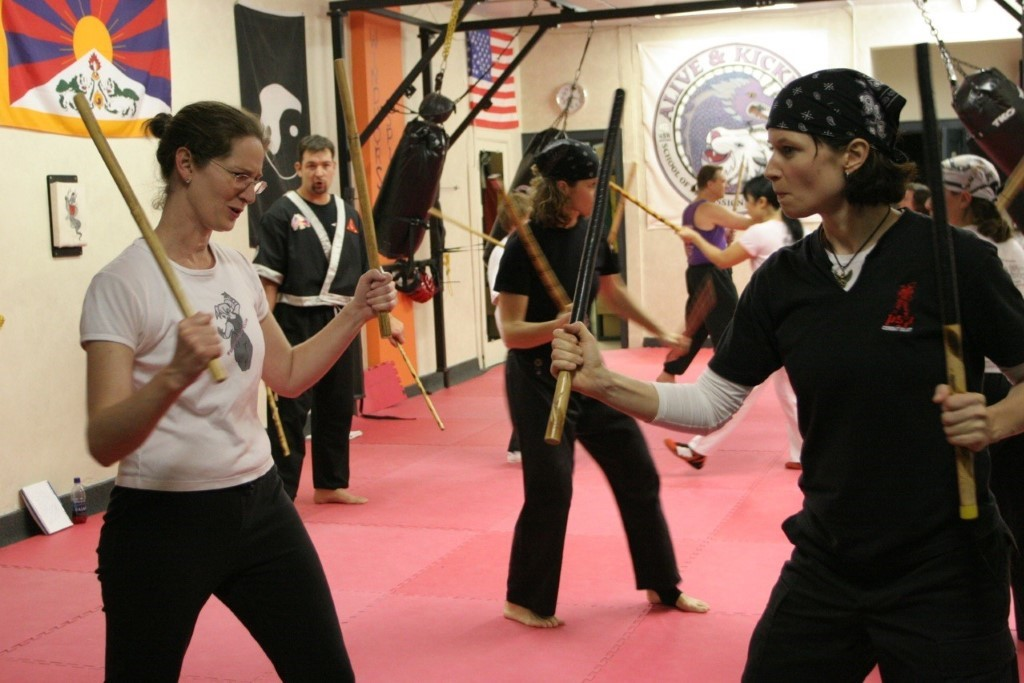baston_e: (72, 102, 220, 366), (908, 55, 976, 516), (547, 100, 623, 429), (327, 68, 390, 333), (497, 181, 567, 312), (394, 342, 441, 425), (608, 182, 679, 230), (430, 209, 506, 248), (264, 384, 291, 451), (727, 154, 745, 241)
baston_v: (532, 419, 568, 458), (904, 34, 938, 60), (955, 500, 986, 526), (211, 368, 230, 389), (373, 326, 396, 342), (327, 52, 347, 69), (70, 89, 88, 104), (485, 169, 502, 183), (613, 83, 625, 97), (280, 447, 294, 458), (436, 424, 447, 433), (630, 160, 640, 168)
